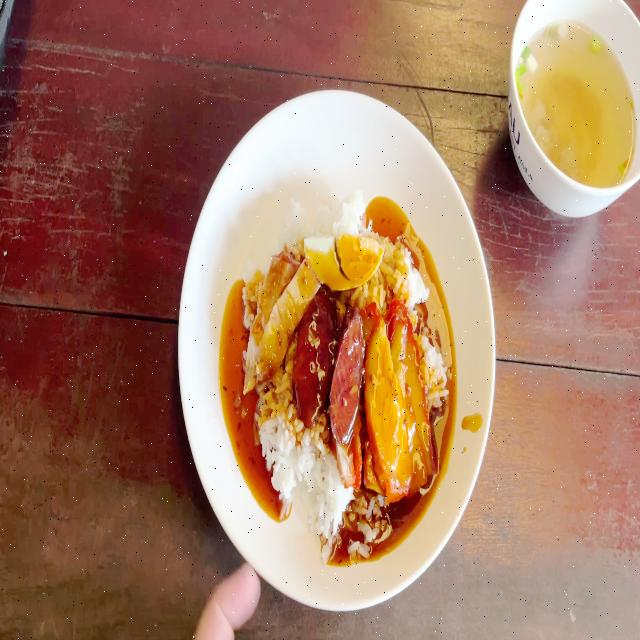boiled_egg: (303, 236, 387, 284)
chainese_sausage: (294, 301, 363, 439)
crispy_pork: (247, 254, 314, 384)
red_pork: (366, 298, 429, 491), (337, 444, 361, 489)
red_pork_and_crispy_pork: (246, 186, 447, 558)
rice: (263, 390, 304, 502), (385, 239, 427, 301), (301, 451, 335, 527)
